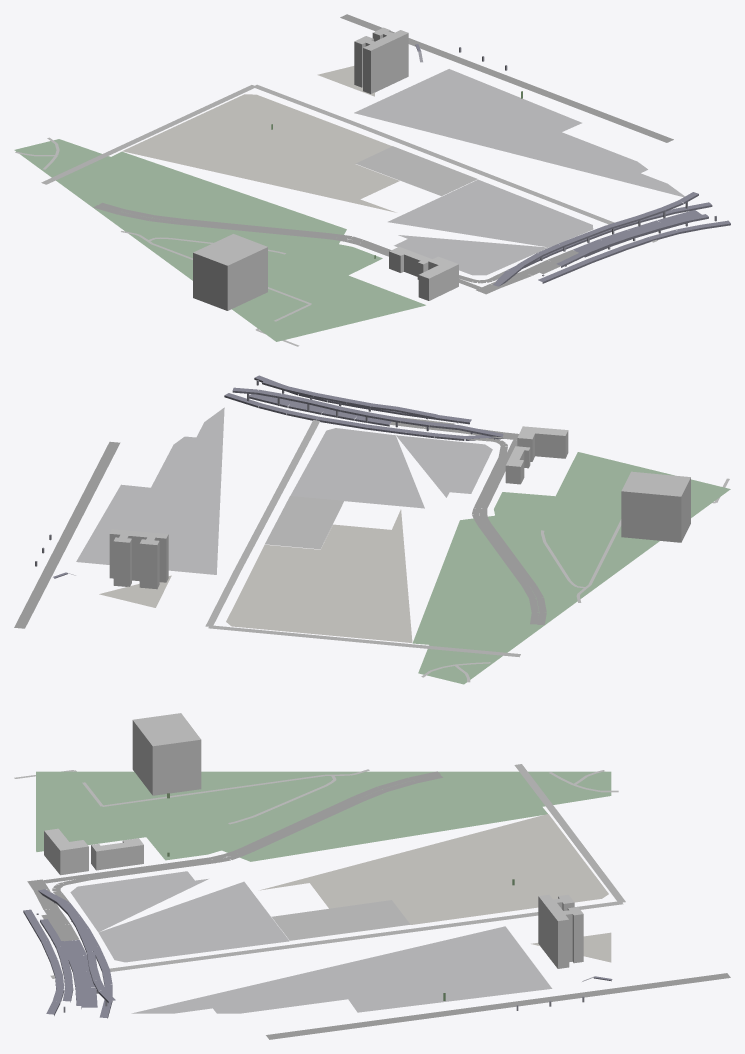
3 renders of one model, top to bottom at view 1: azimuth 30°, elevation 25°; view 2: azimuth 150°, elevation 25°; view 3: azimuth 270°, elevation 25°, orthographic. The views are drawn at different scales.
Size of the model in its own units: 574 by 49.02 by 623.
